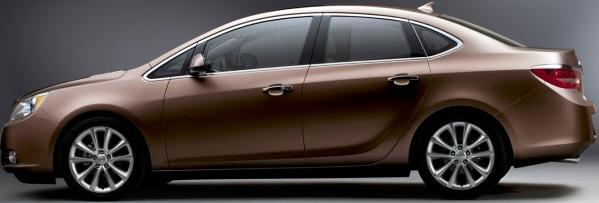backlight: (524, 58, 588, 96)
headlight: (3, 91, 53, 127)
side_glass: (195, 9, 466, 81)
